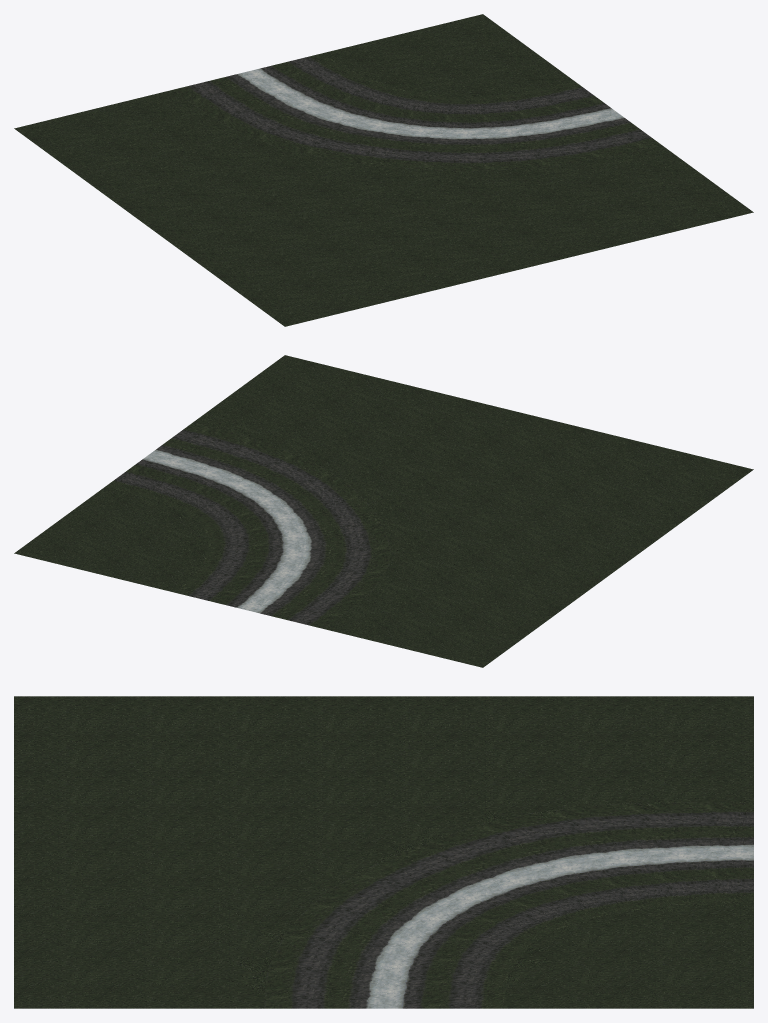
File: SM_EC_Ground_Tile_01.fbx
The picture shows the model from 3 angles, top to bottom: view 1: azimuth 30°, elevation 25°; view 2: azimuth 150°, elevation 25°; view 3: azimuth 270°, elevation 25°; orthographic projection. The views are drawn at different scales.
Parts seen in each view (by area): view 1: SM_EC_Ground_Tile_01; view 2: SM_EC_Ground_Tile_01; view 3: SM_EC_Ground_Tile_01.
Boxes of the visible parts, bbox=[...] form: SM_EC_Ground_Tile_01: bbox=[14, 14, 753, 326]; SM_EC_Ground_Tile_01: bbox=[14, 355, 753, 667]; SM_EC_Ground_Tile_01: bbox=[14, 696, 753, 1008].
Size of the model in its own units: 37.47 by 37.5 by 0.00433.
